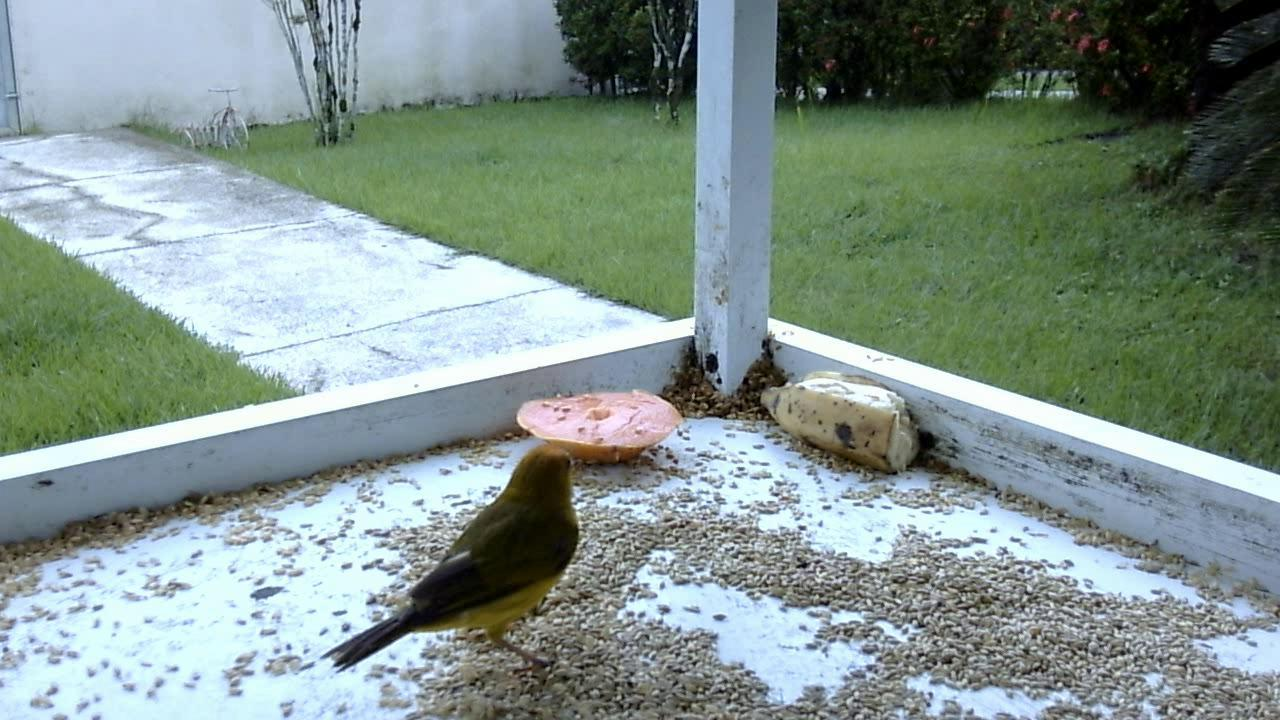canario_do_amazonas: (310, 437, 592, 690)
